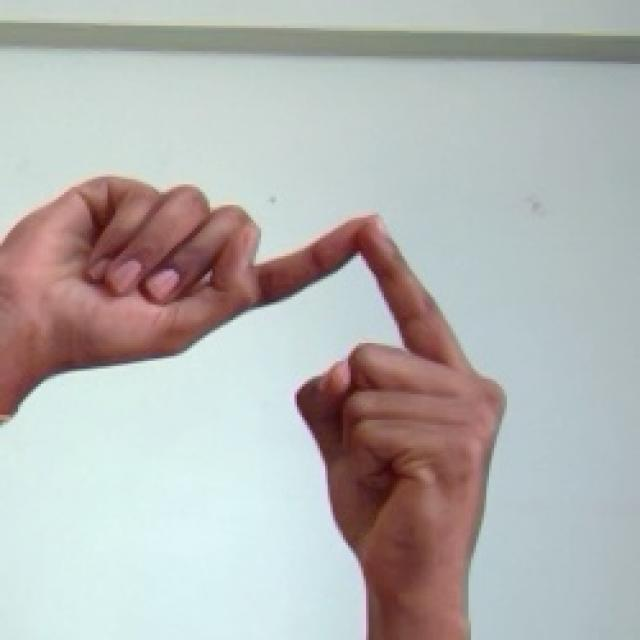Alphabet-E: (1, 177, 507, 639)
